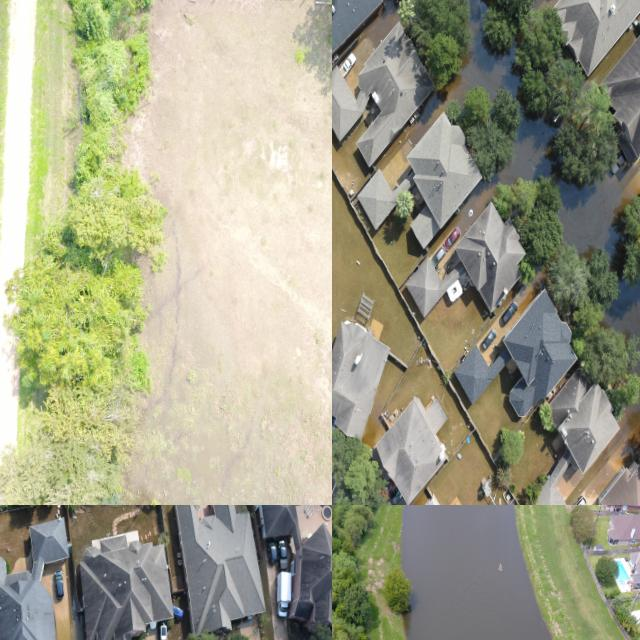fire: (401, 505, 553, 640), (448, 0, 518, 98), (558, 174, 621, 252), (497, 117, 557, 183)
